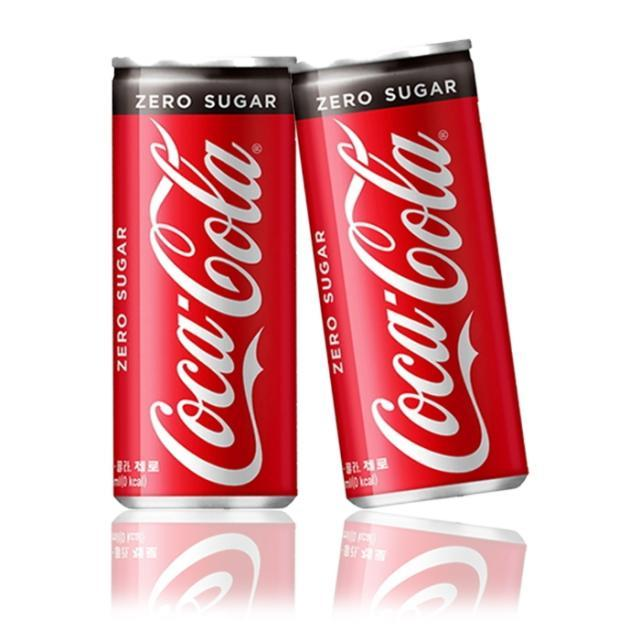coca-cola: (289, 34, 535, 512), (108, 49, 302, 518)
